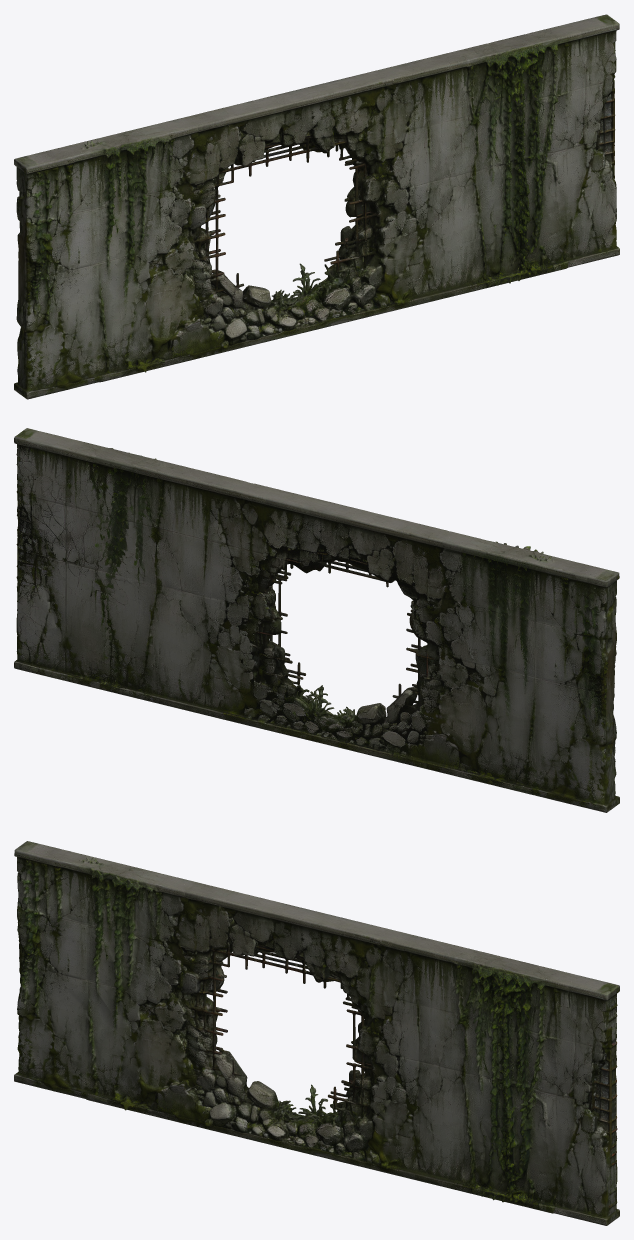
File: wall_breach.glb
3 renders of one model, top to bottom at view 1: azimuth 30°, elevation 25°; view 2: azimuth 150°, elevation 25°; view 3: azimuth 330°, elevation 25°, orthographic.
Visible parts, largest first — view 1: wall_breach; view 2: wall_breach; view 3: wall_breach.
Part boxes in pixels (x1=…): wall_breach: x1=14, y1=14, x2=619, y2=399; wall_breach: x1=14, y1=428, x2=619, y2=812; wall_breach: x1=14, y1=841, x2=619, y2=1225.
Bounding box in the file's own units: 190 × 72 × 12.01.
Materials: 1 (1 with a texture image).
